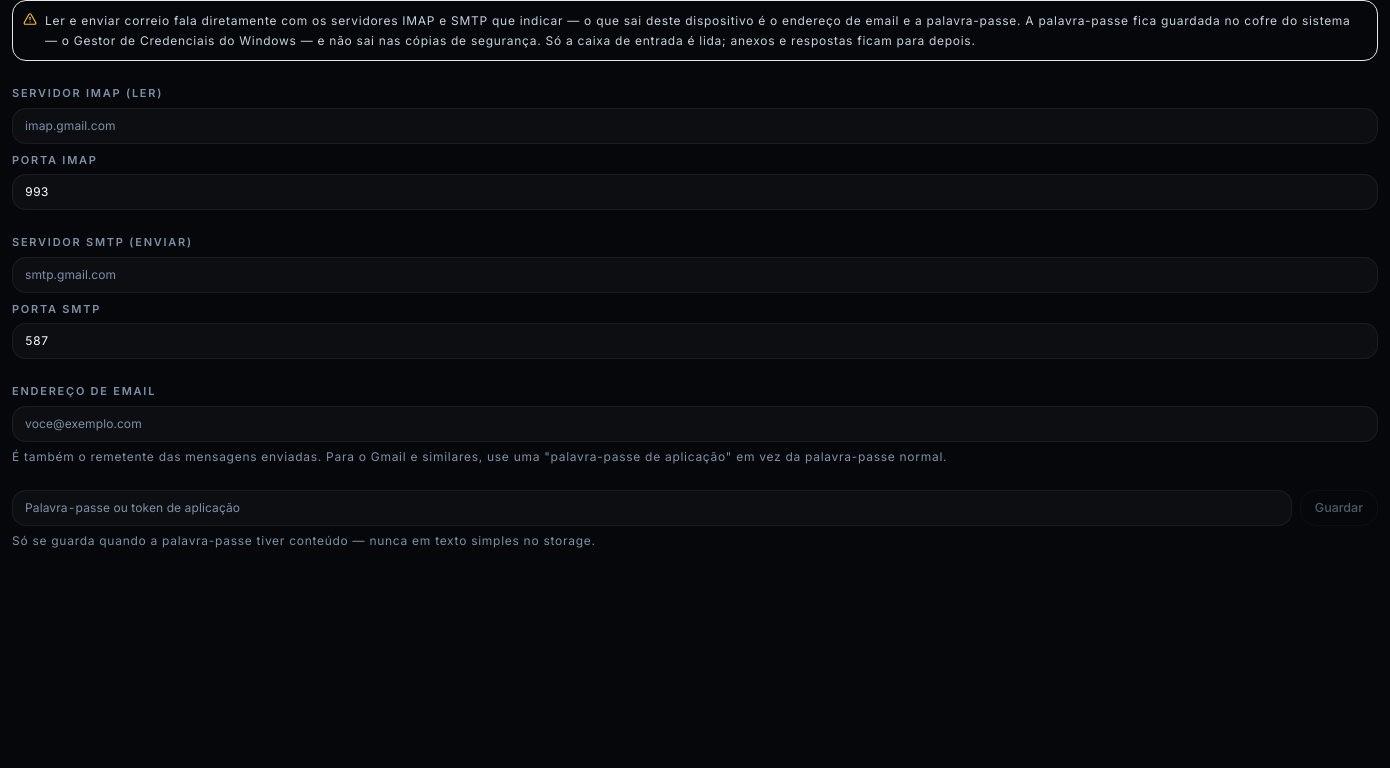
a interface › guardar a palavra-passe mostra-a tapada, sem a revelar
Type "senha-de-teste" into the password field labelled "Palavra-passe". click: (652, 508)
box: [12,490,1292,526]
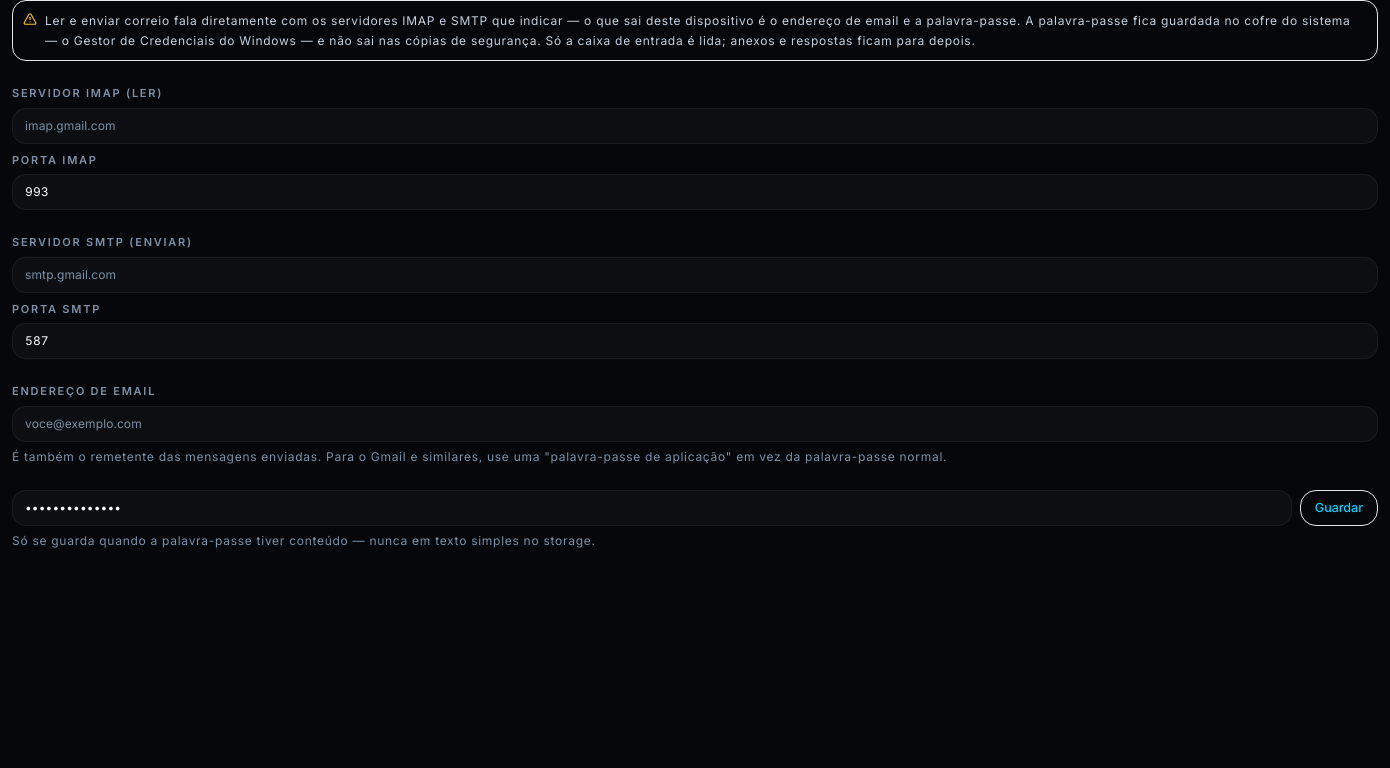
Click the button "Guardar". click: (1339, 508)
box: [1300,490,1378,526]
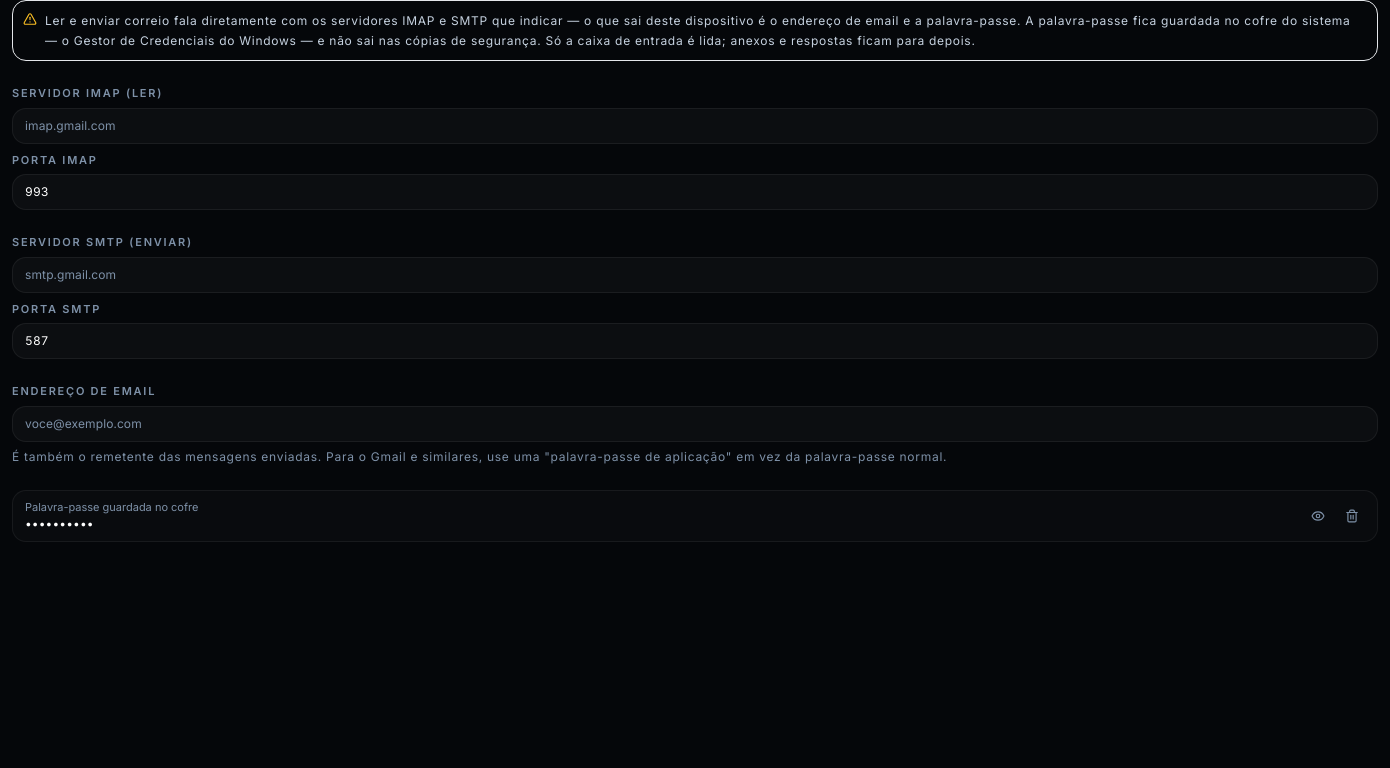
Result: the text "••••••••••" is shown at [25,516,94,531]
